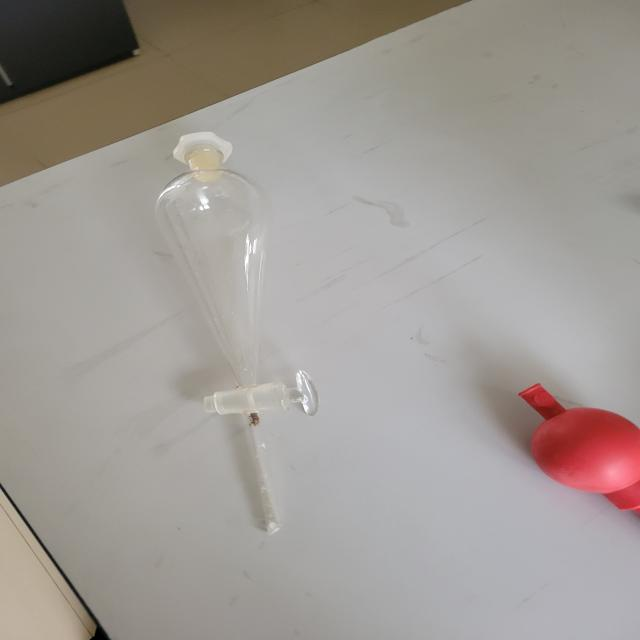Separating_Funnel: (115, 116, 368, 569)
